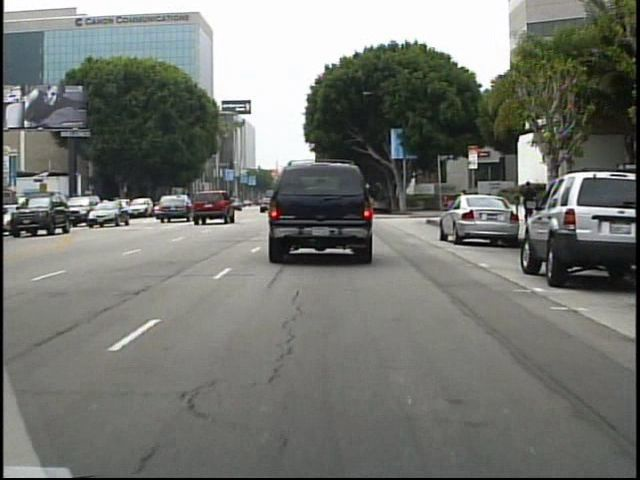person: (516, 177, 539, 230), (453, 186, 472, 227)
